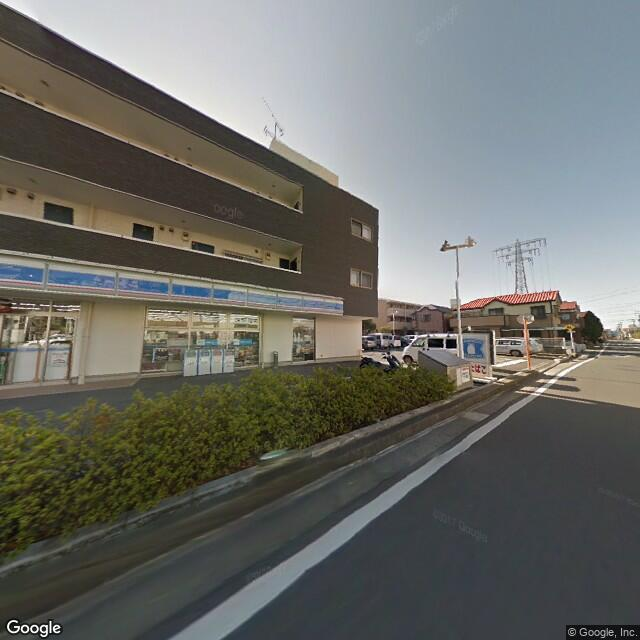lawson: (1, 250, 346, 320), (459, 335, 487, 364)
